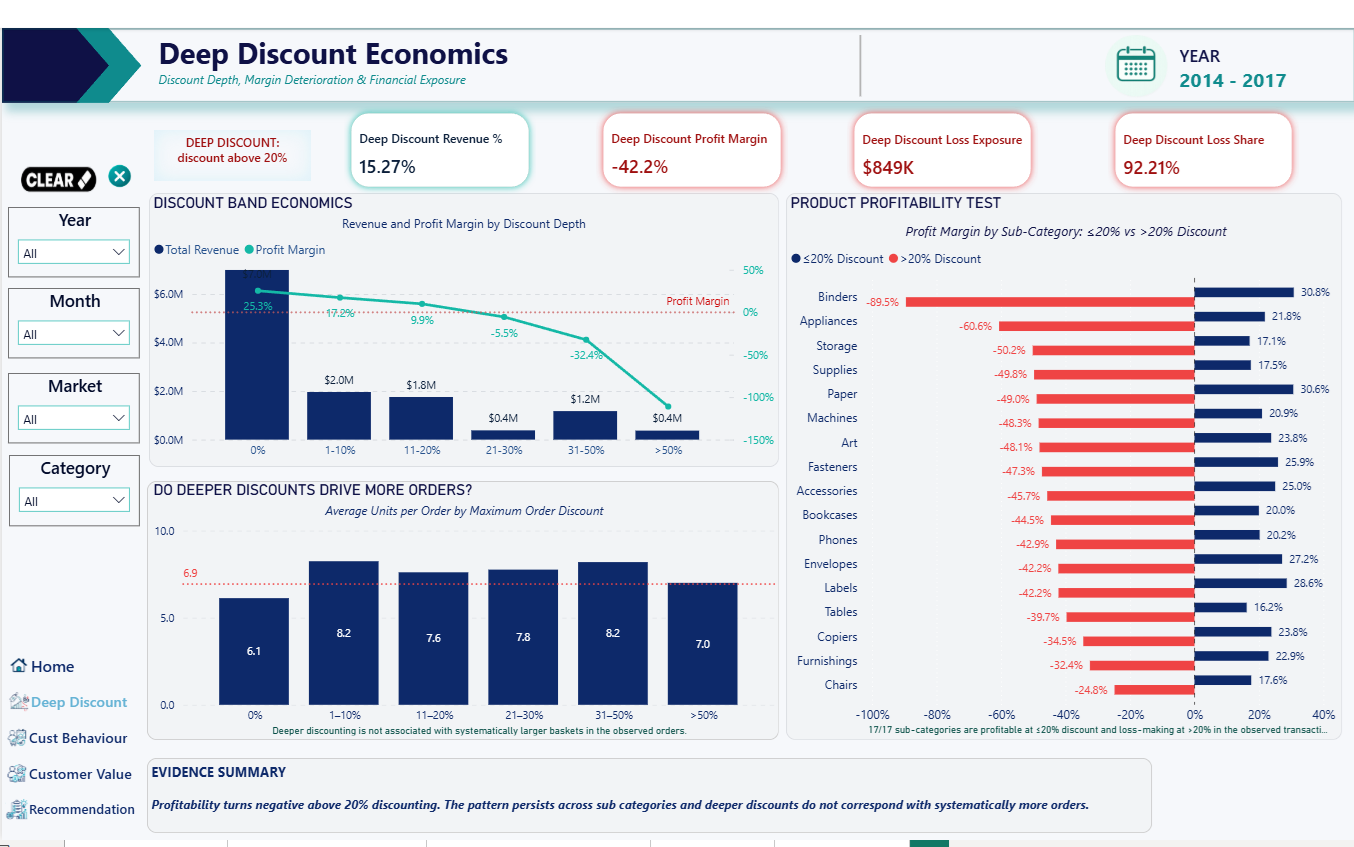

Layout of this report page (visuals, bound fields, positions):
{"tool":"powerbi","page":{"name":"Deep Discount & Profitability","canvas":[1500,900],"ordinal":1},"visuals":[{"type":"shape","box":[869,182.9,616.3,606.3],"z":0},{"type":"shape","box":[162.9,182.9,698.3,303.7],"z":1000},{"type":"slicer","title":"Year","fields":{"Values":["DimDate.Year"]},"box":[6.9,198.7,146.4,78],"z":1000,"group":"g1"},{"type":"slicer","title":"Month","fields":{"Values":["DimDate.Month"]},"box":[6.9,287.5,146.4,78],"z":2000,"group":"g1"},{"type":"shape","box":[160.7,809.1,1113.9,83.1],"z":2000},{"type":"slicer","title":"Market","fields":{"Values":["DimMarketRegion.Market"]},"box":[6.9,381.7,146.4,78],"z":3000,"group":"g1"},{"type":"shape","box":[160.7,502.1,700.5,287.1],"z":3000},{"type":"lineClusteredColumnComboChart","title":"DISCOUNT BAND ECONOMICS","fields":{"Category":["FactSales.Discount Band"],"Y":["_Measures.TOTAL REVENUE"],"Y2":["_Measures.PROFIT MARGIN"]},"box":[162.9,184,698.3,302.6],"z":4000},{"type":"slicer","title":"Category","fields":{"Values":["DimProduct.Category"]},"box":[7.7,472.5,145.4,79.1],"z":4000,"group":"g1"},{"type":"textbox","box":[168.5,0,772.5,76.5],"z":5000},{"type":"image","title":"Clear button","box":[106.8,142.7,47.5,42.3],"z":5000,"group":"g1"},{"type":"shape","box":[0,0.4,127.4,83.2],"z":6000},{"type":"image","box":[20.3,148.5,86.5,41],"z":6000,"group":"g1"},{"type":"shape","box":[0,0,1500,82.8],"z":7000},{"type":"shape","box":[82.1,0.4,72.6,83.2],"z":8000},{"type":"shape","box":[906.3,7.8,89.5,68.4],"z":9000},{"type":"image","box":[1212.9,-0.5,91.6,90.5],"z":10000},{"type":"textbox","box":[1300.2,12.1,138.9,64.2],"z":11000},{"type":"shape","box":[378.6,86.3,212.8,97.5],"z":12000},{"type":"cardVisual","fields":{"Data":["_Measures.Deep Discount Revenue %"]},"box":[378.6,99.9,197.3,80.9],"z":13000},{"type":"shape","box":[657.9,86.3,212.8,97.5],"z":14000},{"type":"cardVisual","fields":{"Data":["_Measures.Deep Discount Profit Margin"]},"box":[657.9,99.9,211.7,80.9],"z":15000},{"type":"shape","box":[936.1,86.3,211.7,97.5],"z":16000},{"type":"cardVisual","fields":{"Data":["_Measures.Deep Discount Loss Exposure"]},"box":[936.1,98.8,220.6,83.1],"z":17000},{"type":"shape","box":[1225.4,86.3,211.7,97.5],"z":18000},{"type":"cardVisual","fields":{"Data":["_Measures.Deep Discount Loss Share"]},"box":[1225.4,96.6,210.6,87.6],"z":19000},{"type":"clusteredColumnChart","title":"DO DEEPER DISCOUNTS DRIVE MORE ORDERS?","fields":{"Category":["Order Summary.Order Discount Band"],"Y":["Order Summary.Average Units per Order"]},"box":[162.9,502.1,699.4,287.1],"z":20000},{"type":"clusteredBarChart","title":"PRODUCT PROFITABILITY TEST","fields":{"Category":["DimProduct.Sub-Category"],"Y":["_Measures.Profit Margin Up to 20Pct","_Measures.Profit Margin Above 20Pct"]},"box":[869,184,620.7,605.2],"z":21000},{"type":"textbox","box":[160.7,809.1,1113.9,83.1],"z":22000},{"type":"textbox","box":[168,113,174,56],"z":23000},{"type":"actionButton","box":[2.2,685.6,168.9,40],"z":27000},{"type":"actionButton","box":[2.2,725.6,158.9,40],"z":28000},{"type":"actionButton","box":[0,765.6,158.9,40],"z":29000},{"type":"actionButton","box":[0,805.6,158.9,40],"z":30000},{"type":"actionButton","box":[0,845.6,158.9,40],"z":31000},{"type":"group","id":"g1","title":"Group 1","box":[6.9,142.7,147.5,422.5],"z":32001}]}

Visuals, with their boxes on the page's 1500x900 design canvas (x1, y1, x2, y2). These are canvas units, not pixel positions in the 1354x847 screenshot, which may show the page scaled, cropped or inside an application window:
shape: locate(869, 183, 1485, 789)
shape: locate(163, 183, 861, 487)
"Year" slicer: locate(7, 199, 153, 277)
"Month" slicer: locate(7, 288, 153, 366)
shape: locate(161, 809, 1275, 892)
"Market" slicer: locate(7, 382, 153, 460)
shape: locate(161, 502, 861, 789)
"DISCOUNT BAND ECONOMICS" lineClusteredColumnComboChart: locate(163, 184, 861, 487)
"Category" slicer: locate(8, 472, 153, 552)
textbox: locate(168, 0, 941, 76)
"Clear button" image: locate(107, 143, 154, 185)
shape: locate(0, 0, 127, 84)
image: locate(20, 148, 107, 190)
shape: locate(0, 0, 1500, 83)
shape: locate(82, 0, 155, 84)
shape: locate(906, 8, 996, 76)
image: locate(1213, 0, 1304, 90)
textbox: locate(1300, 12, 1439, 76)
shape: locate(379, 86, 591, 184)
cardVisual - _Measures.Deep Discount Revenue %: locate(379, 100, 576, 181)
shape: locate(658, 86, 871, 184)
cardVisual - _Measures.Deep Discount Profit Margin: locate(658, 100, 870, 181)
shape: locate(936, 86, 1148, 184)
cardVisual - _Measures.Deep Discount Loss Exposure: locate(936, 99, 1157, 182)
shape: locate(1225, 86, 1437, 184)
cardVisual - _Measures.Deep Discount Loss Share: locate(1225, 97, 1436, 184)
"DO DEEPER DISCOUNTS DRIVE MORE ORDERS?" clusteredColumnChart: locate(163, 502, 862, 789)
"PRODUCT PROFITABILITY TEST" clusteredBarChart: locate(869, 184, 1490, 789)
textbox: locate(161, 809, 1275, 892)
textbox: locate(168, 113, 342, 169)
actionButton: locate(2, 686, 171, 726)
actionButton: locate(2, 726, 161, 766)
actionButton: locate(0, 766, 159, 806)
actionButton: locate(0, 806, 159, 846)
actionButton: locate(0, 846, 159, 886)
"Group 1" group: locate(7, 143, 154, 565)
